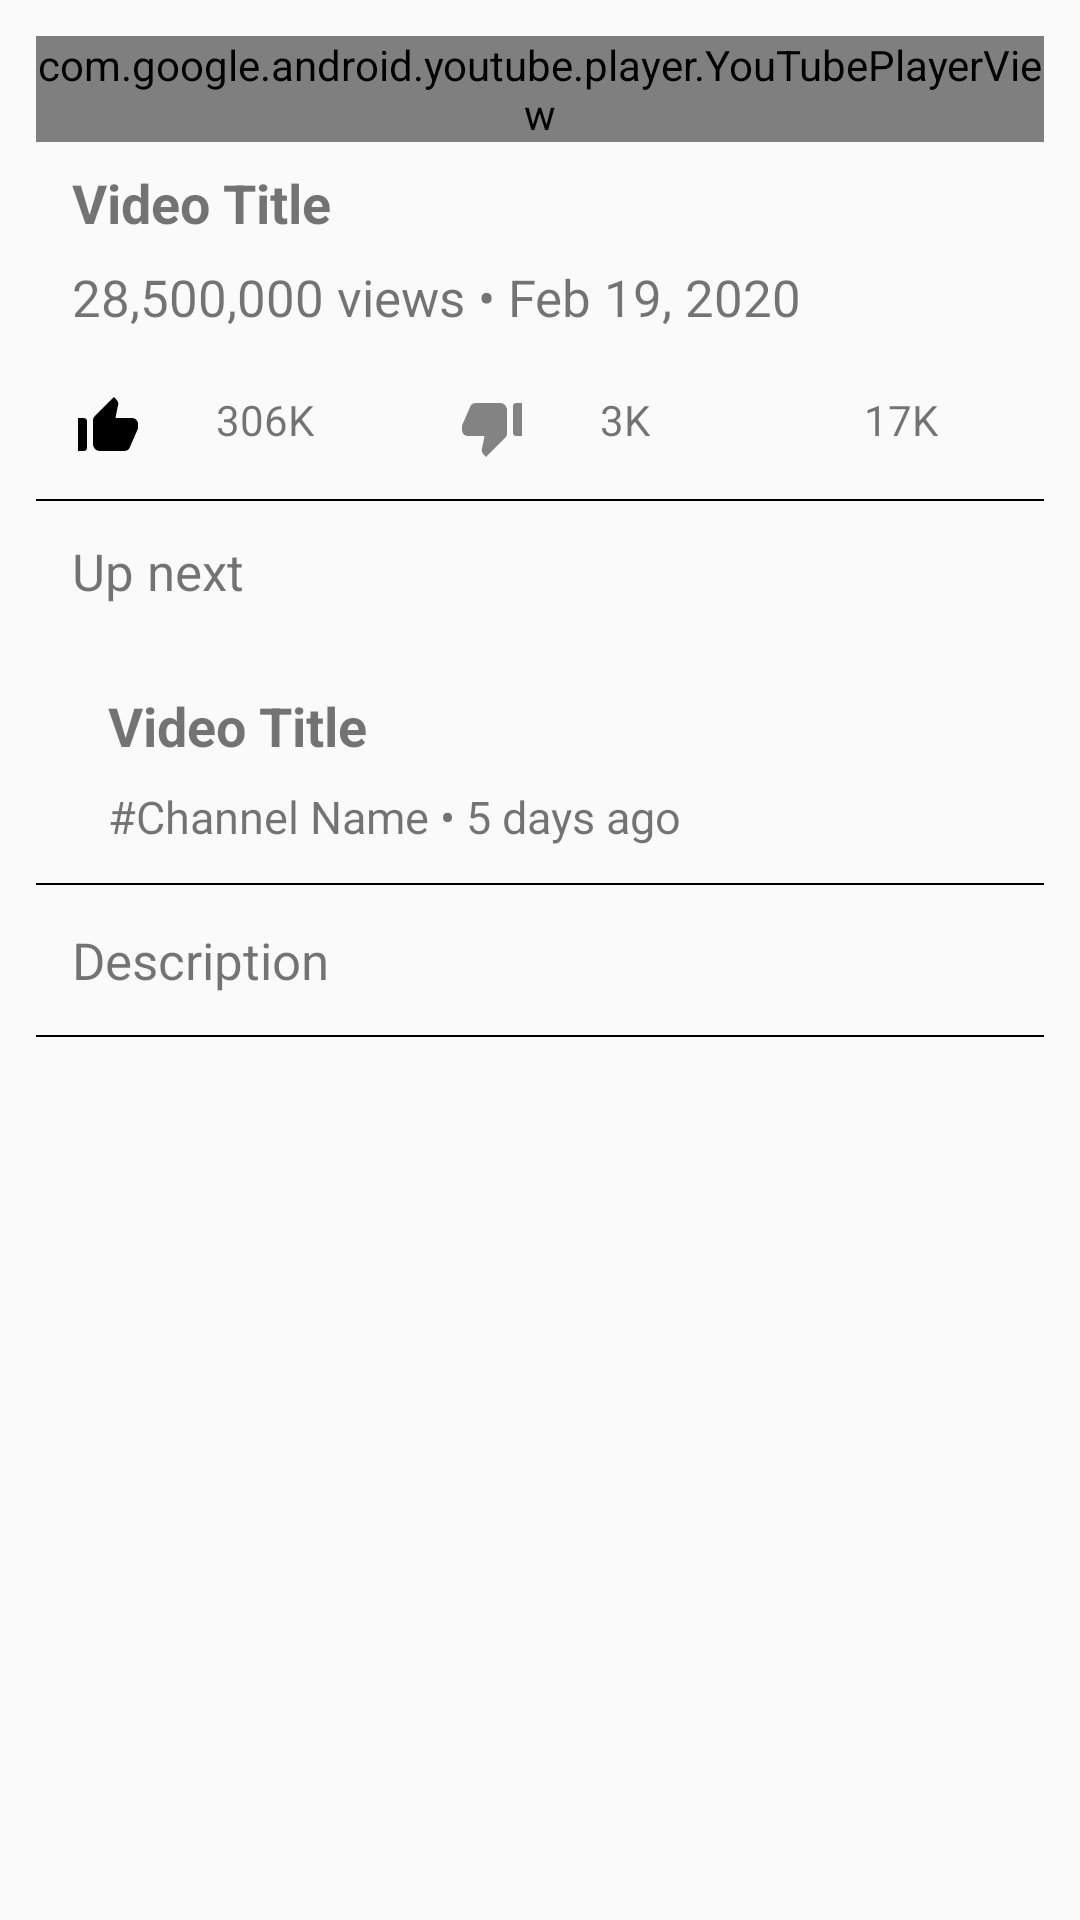

Icon bounding boxes for this 1080 x 1920 phone screenshot, format (x1, y1, x2, y2):
thumbs down: (462, 403, 522, 457)
thumbs up: (78, 397, 138, 451)
